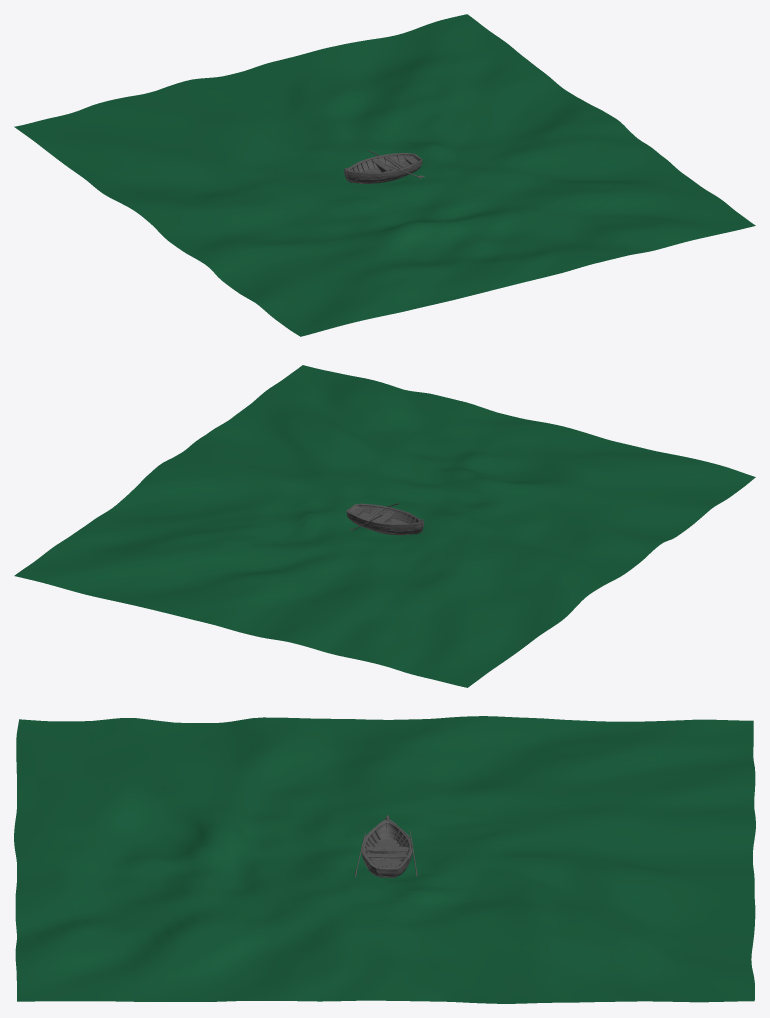
The model's file is gannetboat.fbx.
3 views of the same model, one above another, from view 1: azimuth 30°, elevation 25°; view 2: azimuth 150°, elevation 25°; view 3: azimuth 270°, elevation 25° (orthographic). The views are drawn at different scales.
Visible parts, largest first — view 1: Plane143, Box001; view 2: Plane143, Box001; view 3: Plane143, Box001.
Part boxes in pixels (x1,y1,x2,y2): Plane143: (14, 14, 755, 336); Box001: (344, 150, 424, 183); Plane143: (14, 365, 755, 687); Box001: (346, 503, 423, 535); Plane143: (14, 716, 755, 1003); Box001: (354, 815, 417, 877).
Size of the model in its own units: 2475 by 150 by 2712.
